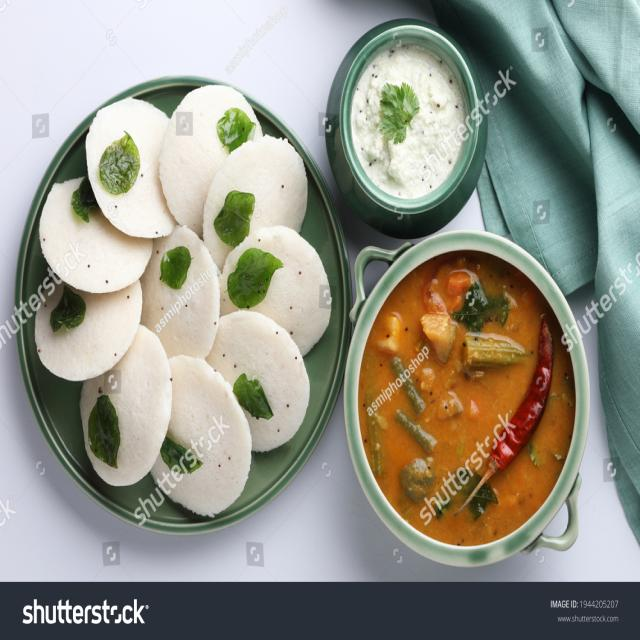IDLI: (150, 356, 251, 523), (36, 168, 152, 295), (211, 309, 308, 449), (163, 92, 256, 238), (82, 334, 171, 486), (221, 230, 330, 351), (207, 138, 307, 259), (85, 102, 173, 236), (34, 275, 142, 379), (141, 224, 220, 359)
